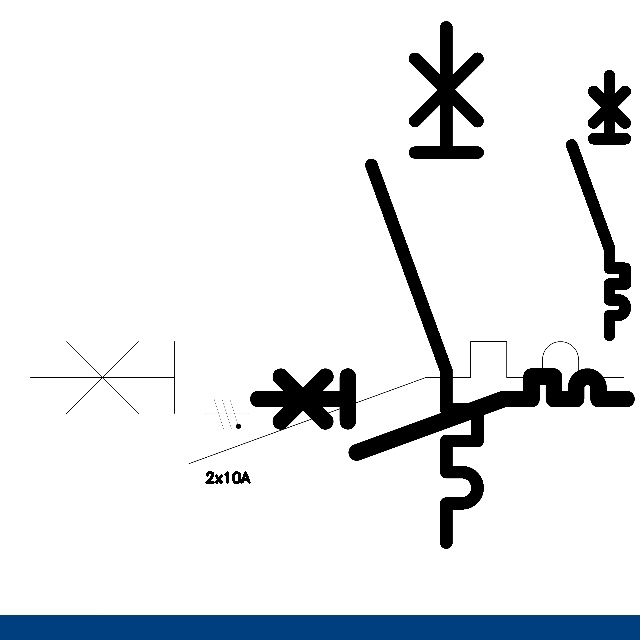interruptor_termomagnetico: (15, 326, 639, 479), (358, 14, 491, 556), (248, 367, 636, 462), (565, 69, 632, 342)
